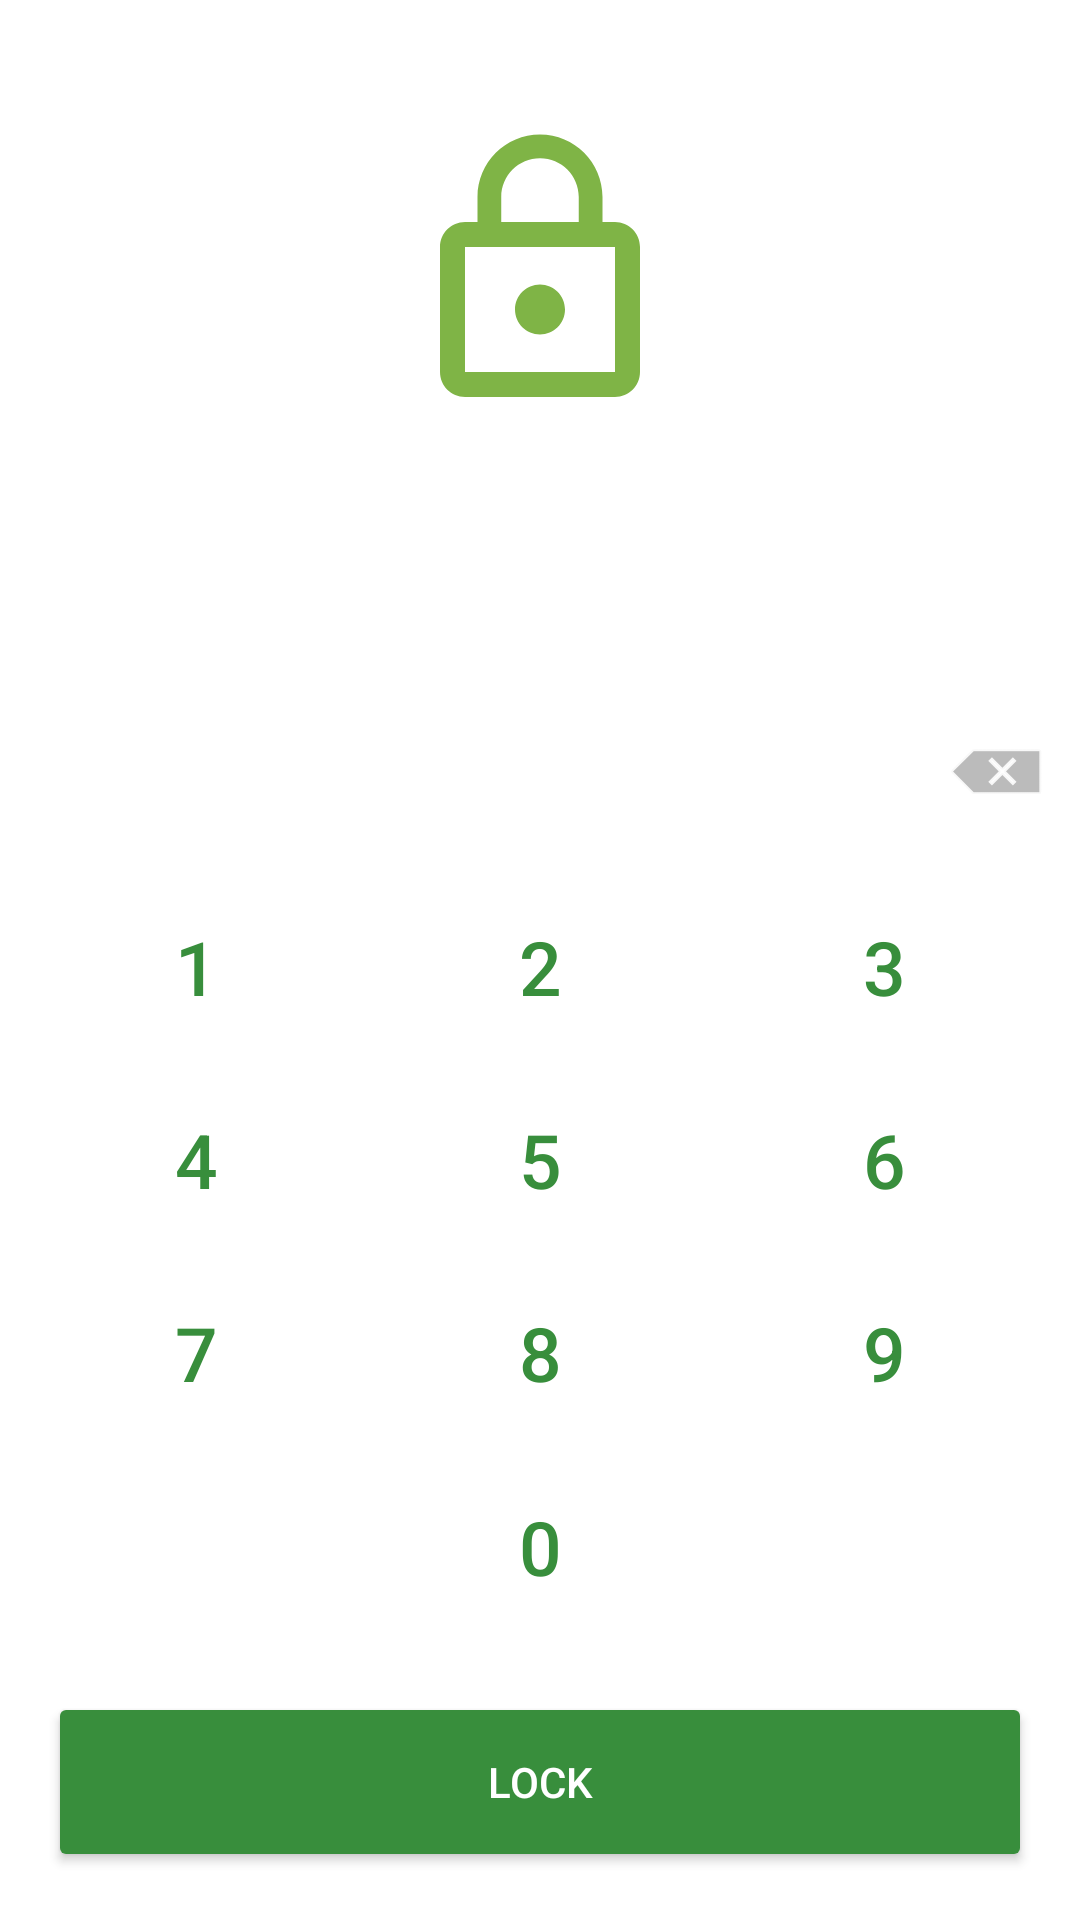

Where to tap for icons on this 1080*1920 app screen, as point (x, y):
delete: point (996, 771)
lock: point (540, 265)
